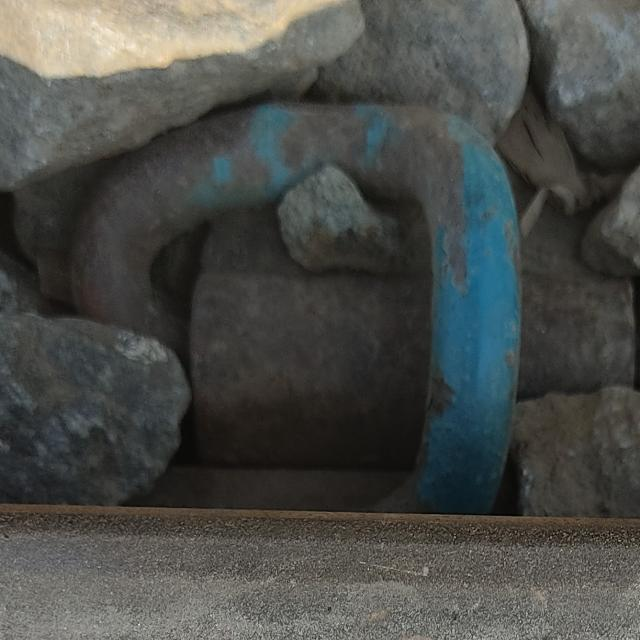track_bolt: (59, 92, 528, 504)
